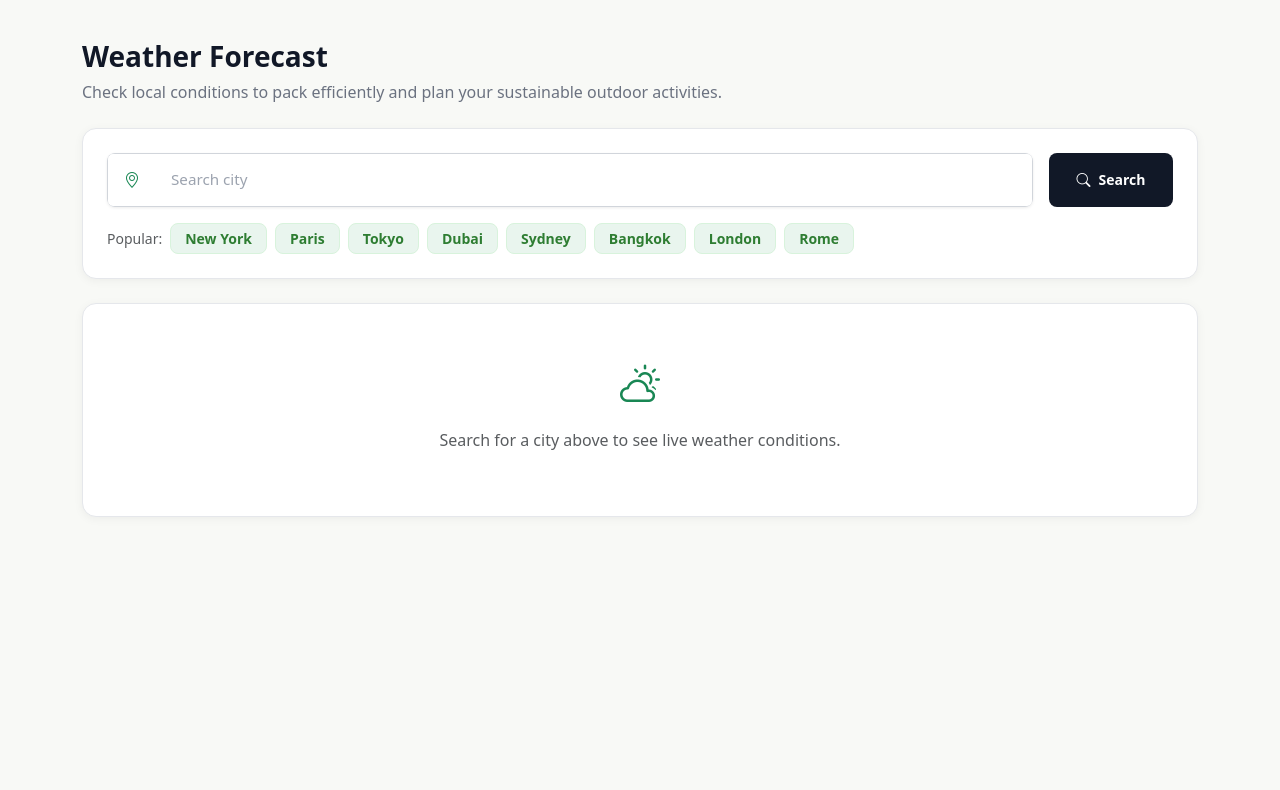
Test: WeatherPage › shows weather data after a successful fetch
Type "Kuala Lumpur" into the field with placeholder "Search city" at (594, 180), box [155, 153, 1033, 207]
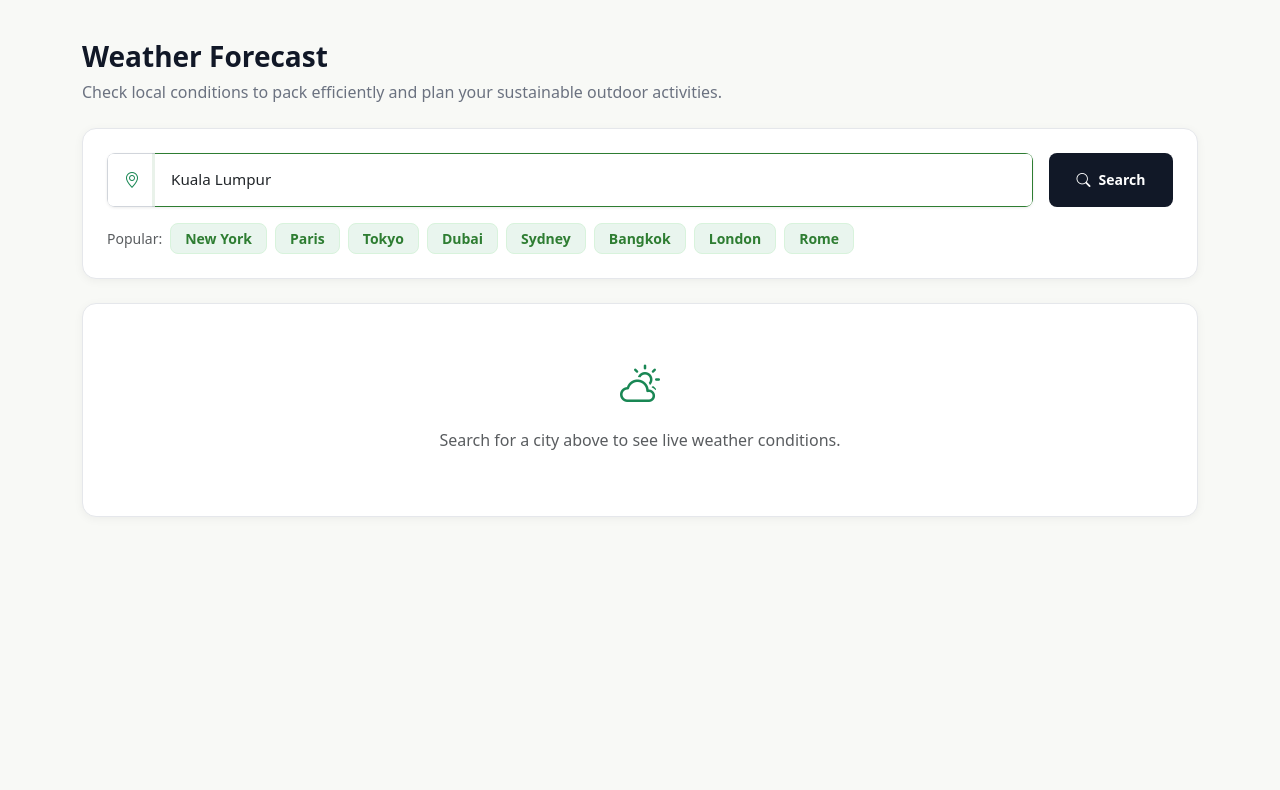
Click the button "Search" at (1111, 180), box [1049, 153, 1173, 207]
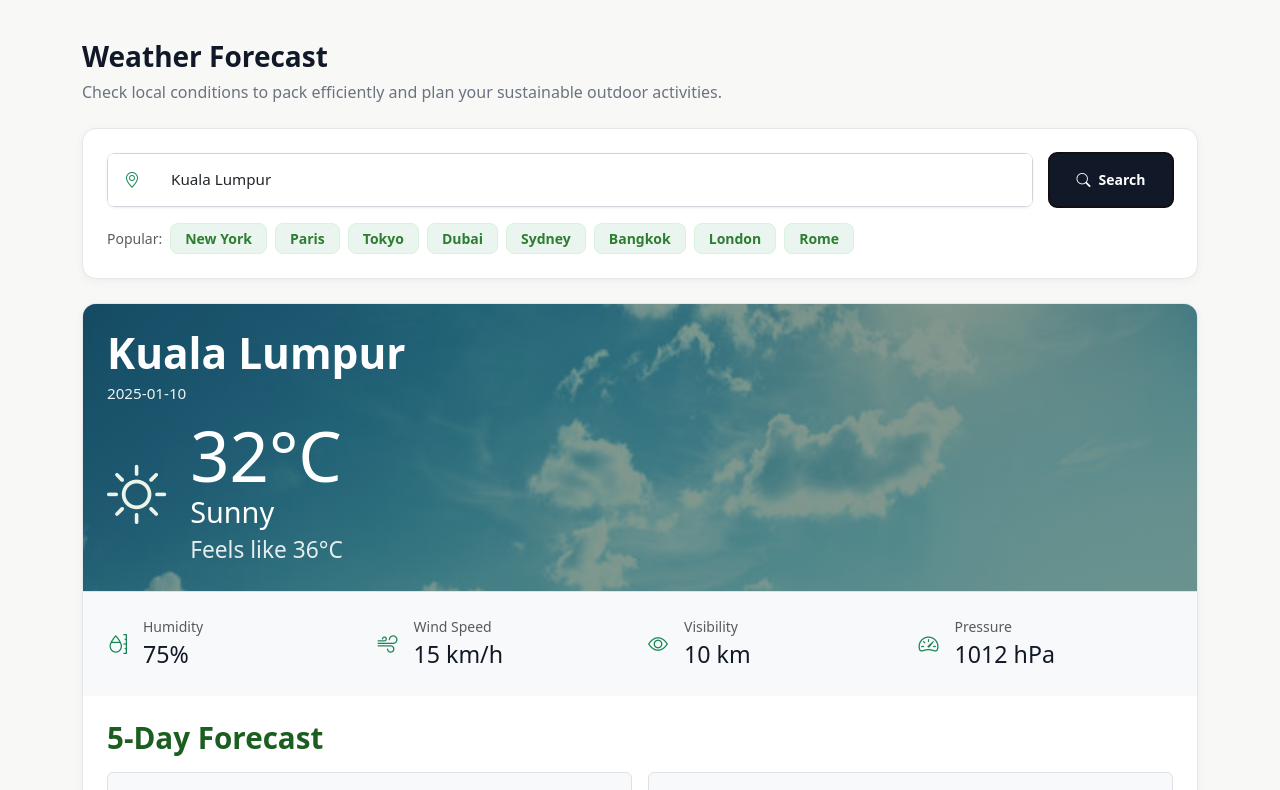
Expected: the heading "Kuala Lumpur" is shown, [107, 324, 406, 381]
